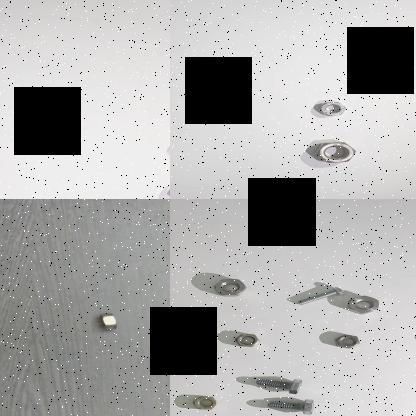Bolts: (245, 369, 301, 397), (259, 395, 321, 416), (293, 284, 345, 308)
NUTS: (308, 138, 358, 164), (207, 273, 246, 302), (339, 290, 381, 316), (88, 308, 124, 332), (237, 330, 269, 354), (312, 100, 350, 118), (330, 331, 362, 351), (186, 393, 218, 412)
